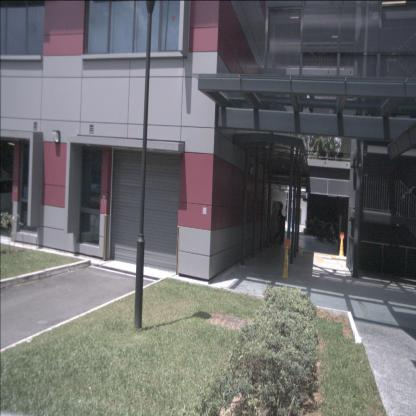human-pedestrian-adult: (274, 204, 284, 246)
vehicle-car: (0, 178, 27, 224)
